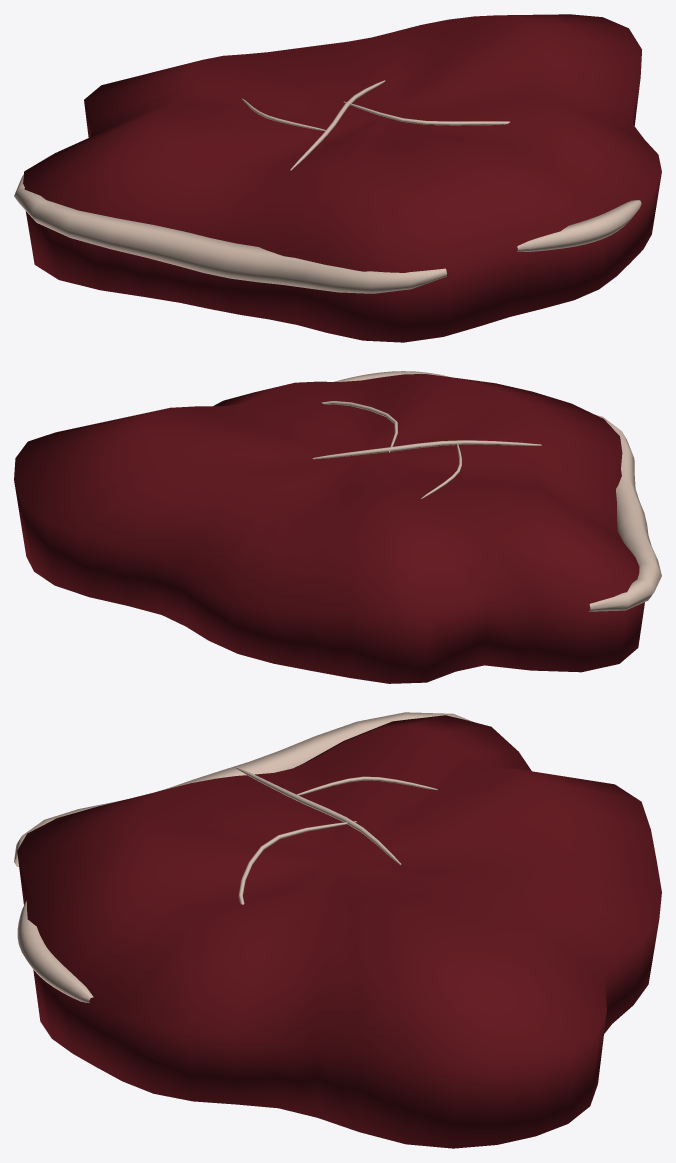
The model's file is meat-red.glb.
The picture shows the model from 3 angles, top to bottom: view 1: azimuth 30°, elevation 25°; view 2: azimuth 150°, elevation 25°; view 3: azimuth 270°, elevation 25°; orthographic projection. The views are drawn at different scales.
Visible parts, largest first — view 1: meat_body, fat_partial_edge, fat_partial_edge.001, fat_seam_2, fat_seam_1; view 2: meat_body, fat_partial_edge, fat_seam_1; view 3: meat_body, fat_partial_edge, fat_partial_edge.001, fat_seam_1, fat_seam_2.
Boxes of the visible parts, x1=… form: meat_body: x1=23, y1=14, x2=661, y2=342; fat_partial_edge: x1=14, y1=174, x2=446, y2=293; fat_partial_edge.001: x1=517, y1=200, x2=641, y2=251; fat_seam_2: x1=343, y1=101, x2=509, y2=125; fat_seam_1: x1=290, y1=80, x2=385, y2=170; meat_body: x1=14, y1=374, x2=644, y2=683; fat_partial_edge: x1=589, y1=415, x2=661, y2=611; fat_seam_1: x1=312, y1=440, x2=541, y2=459; meat_body: x1=17, y1=715, x2=661, y2=1148; fat_partial_edge: x1=14, y1=712, x2=472, y2=866; fat_partial_edge.001: x1=17, y1=901, x2=93, y2=1003; fat_seam_1: x1=235, y1=766, x2=401, y2=864; fat_seam_2: x1=238, y1=821, x2=356, y2=904.
Bounding box in the file's own units: 0.7998 × 0.1594 × 0.616.
